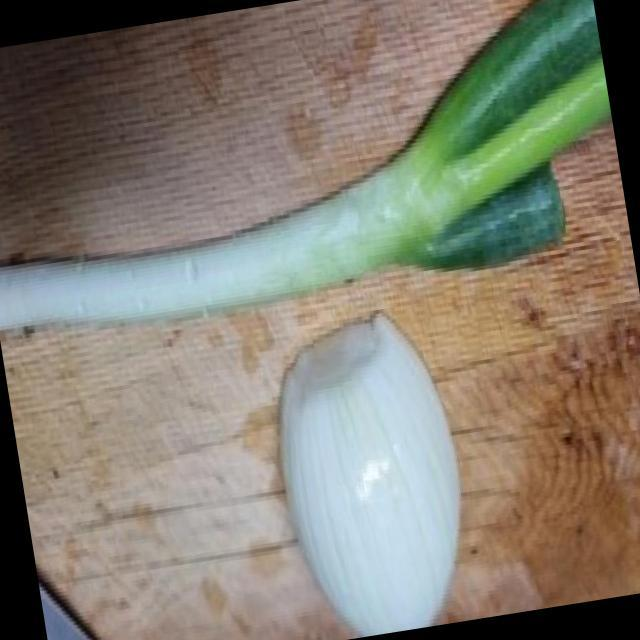Onion: (276, 316, 459, 640)
